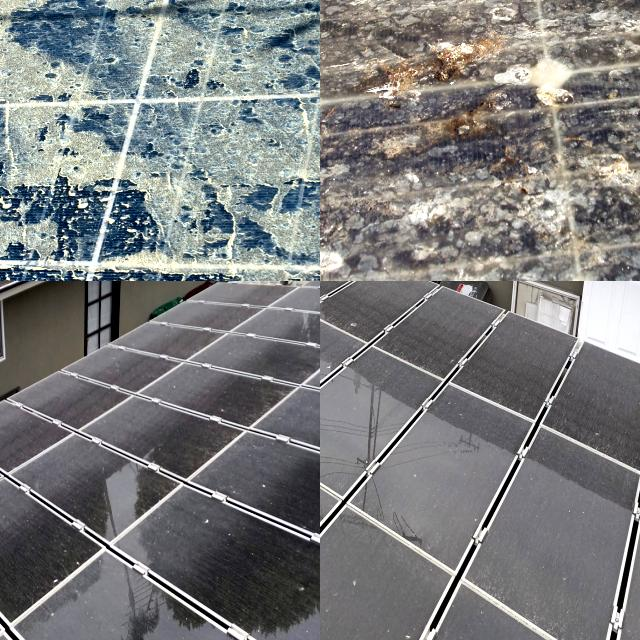bird: (367, 110, 576, 188), (411, 0, 629, 67), (355, 13, 541, 68), (320, 0, 381, 128), (320, 225, 399, 281)
dust: (136, 106, 320, 241), (475, 470, 605, 640), (320, 294, 466, 413), (158, 542, 307, 640), (0, 0, 147, 98), (0, 115, 107, 247), (228, 307, 320, 455), (15, 391, 172, 471), (0, 456, 63, 640), (194, 0, 320, 89), (390, 381, 465, 523), (320, 281, 414, 391), (320, 552, 423, 640), (0, 0, 171, 51), (320, 430, 356, 618), (29, 582, 142, 640), (580, 346, 640, 451), (179, 496, 308, 544), (479, 328, 546, 412), (203, 0, 320, 46), (320, 414, 353, 540), (0, 0, 43, 95), (320, 555, 365, 640), (0, 477, 28, 566)
